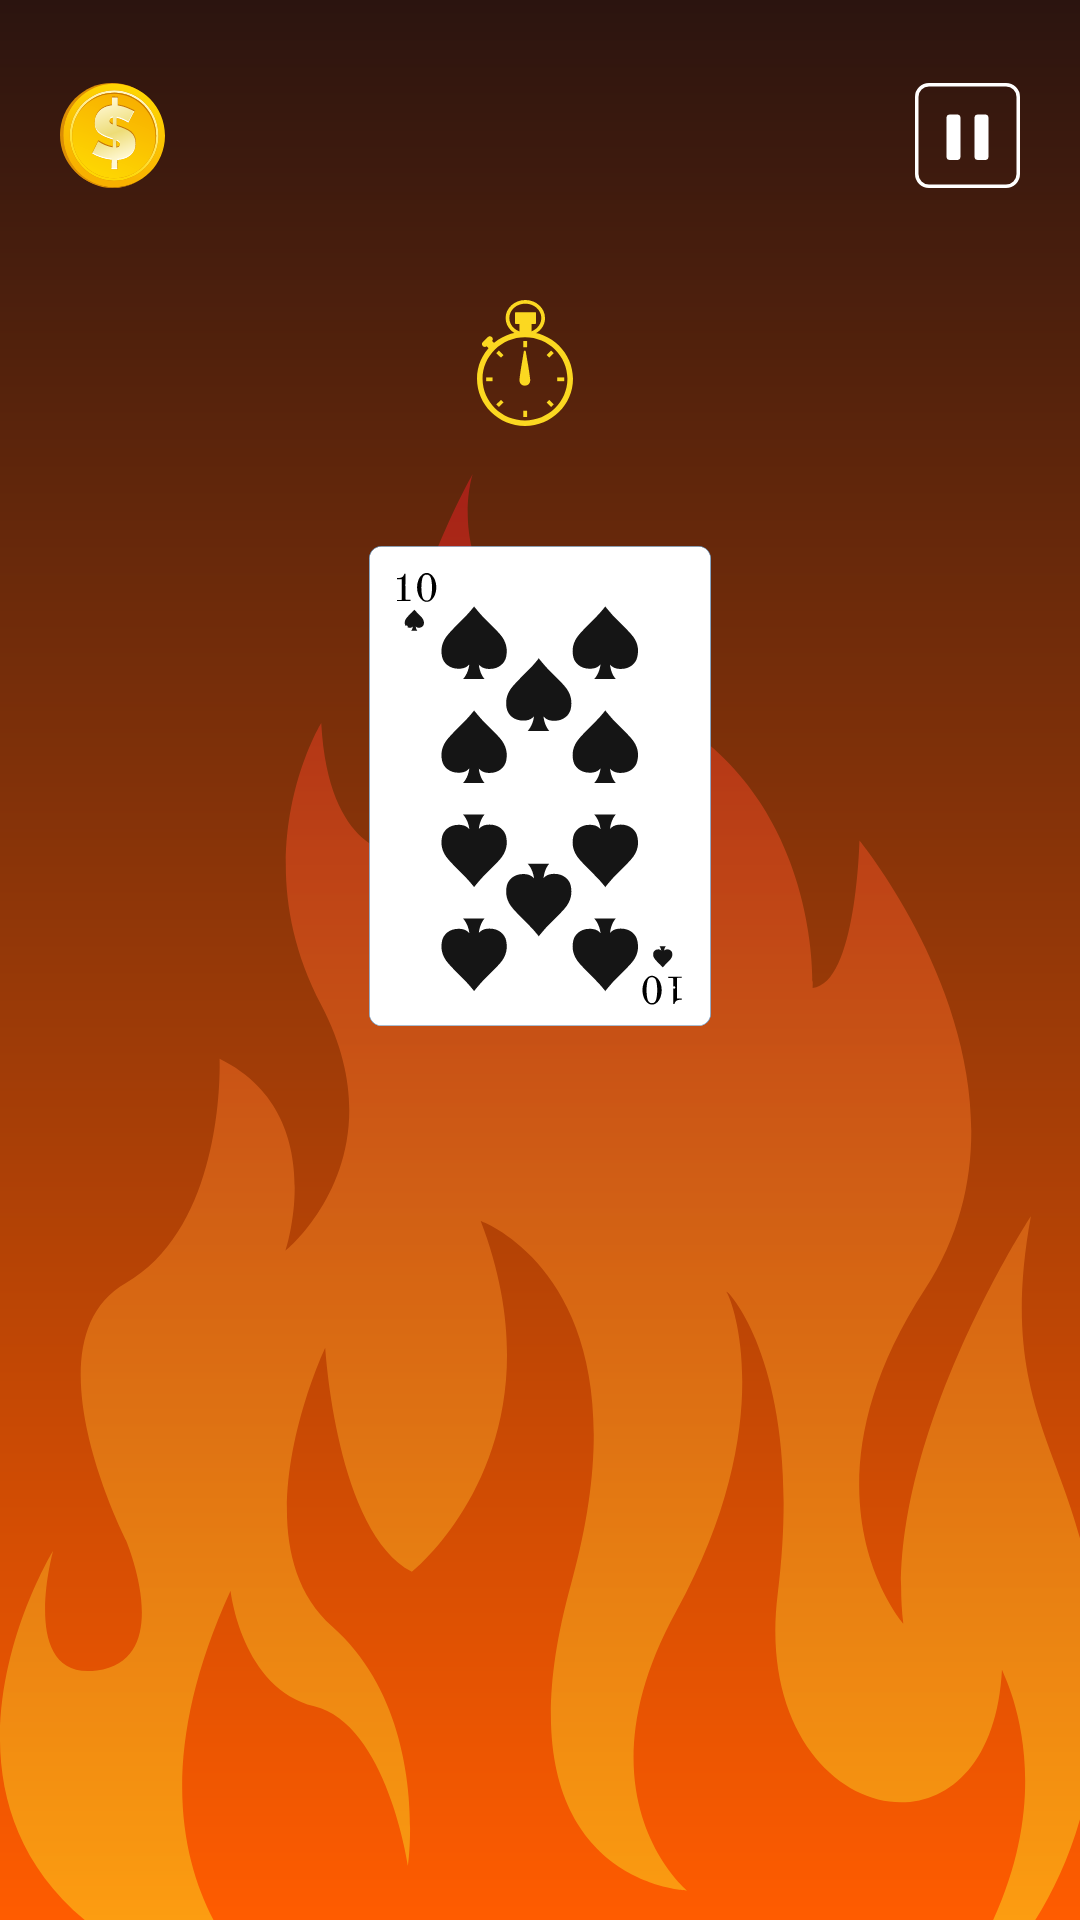

Icon click points for this 1080x1920 phone screenshot, format (x,y):
coin: (112,135)
pause: (967,135)
timer: (525,363)
